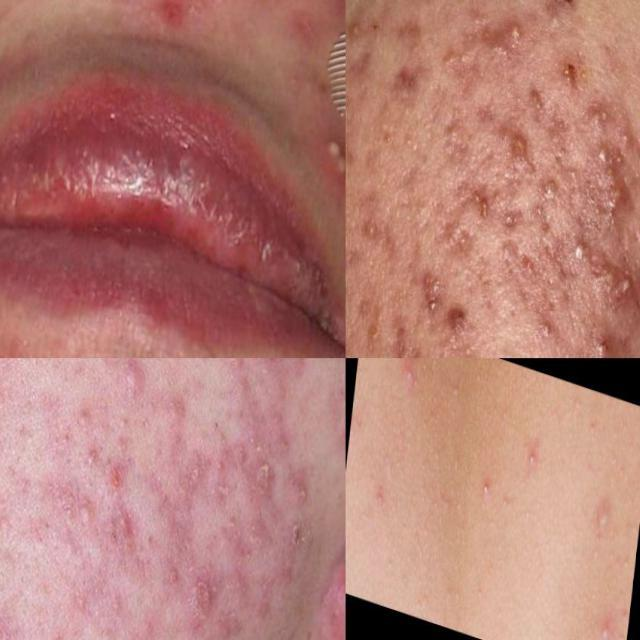Pimples: (170, 556, 227, 634), (574, 250, 640, 314), (408, 262, 460, 331), (151, 363, 198, 438), (384, 49, 429, 122), (594, 138, 634, 216), (143, 0, 210, 46), (106, 358, 156, 411), (278, 460, 316, 522), (314, 116, 346, 188), (110, 358, 154, 409), (573, 88, 611, 145), (354, 207, 404, 249), (102, 485, 140, 540), (536, 167, 578, 216), (505, 114, 534, 180), (378, 323, 426, 358), (588, 320, 629, 358), (494, 6, 527, 51)
